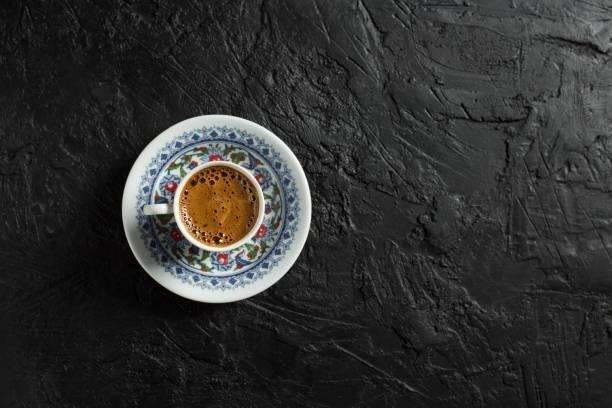cup-handle: (141, 158, 268, 255)
